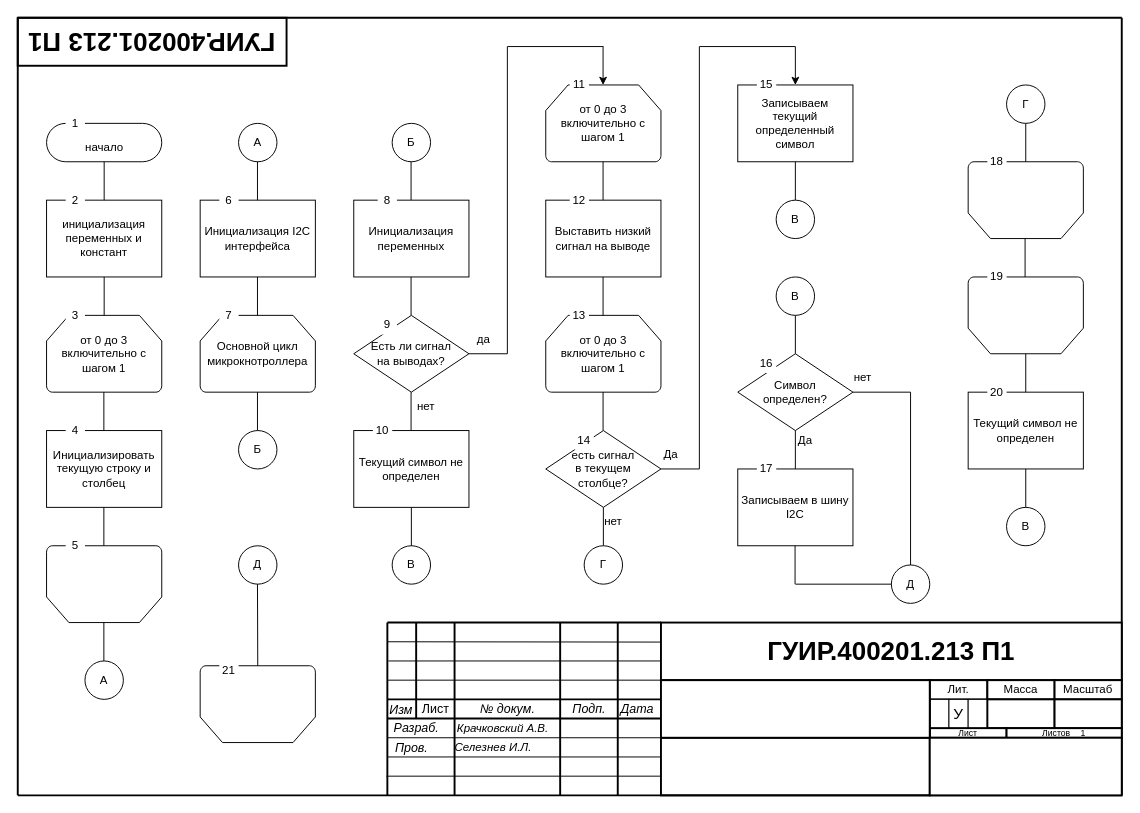
Image size: 1140x813. Some labels were removed from this diagram. Each missing label, with the centre of its shape:
Микроконтроллерное устройство синхронизированного вывода звуков: (x=795, y=708)
ЭВМ, гр 050502: (x=1025, y=766)
